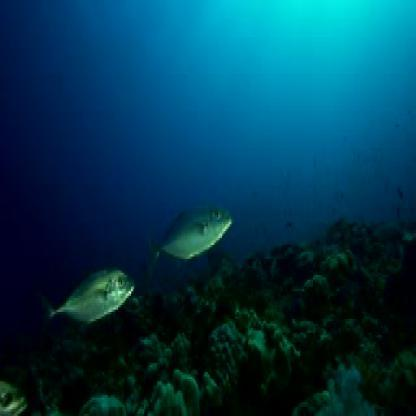Bio: (128, 185, 232, 277), (34, 256, 138, 333)
